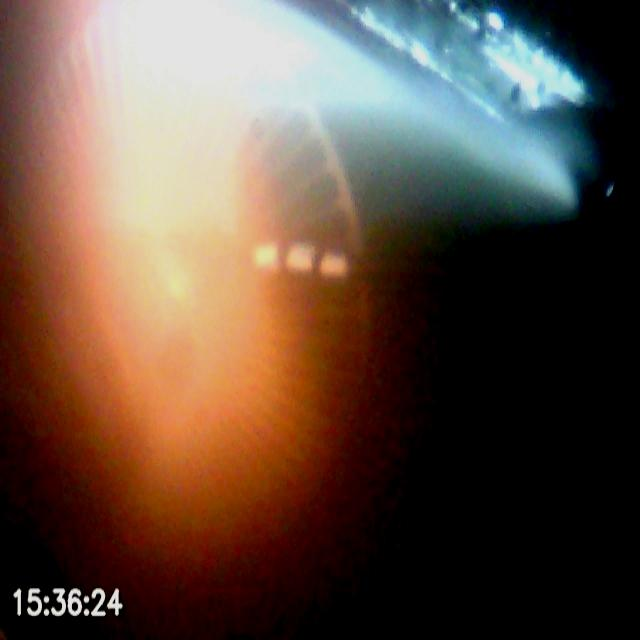white-dots: (252, 238, 350, 280)
